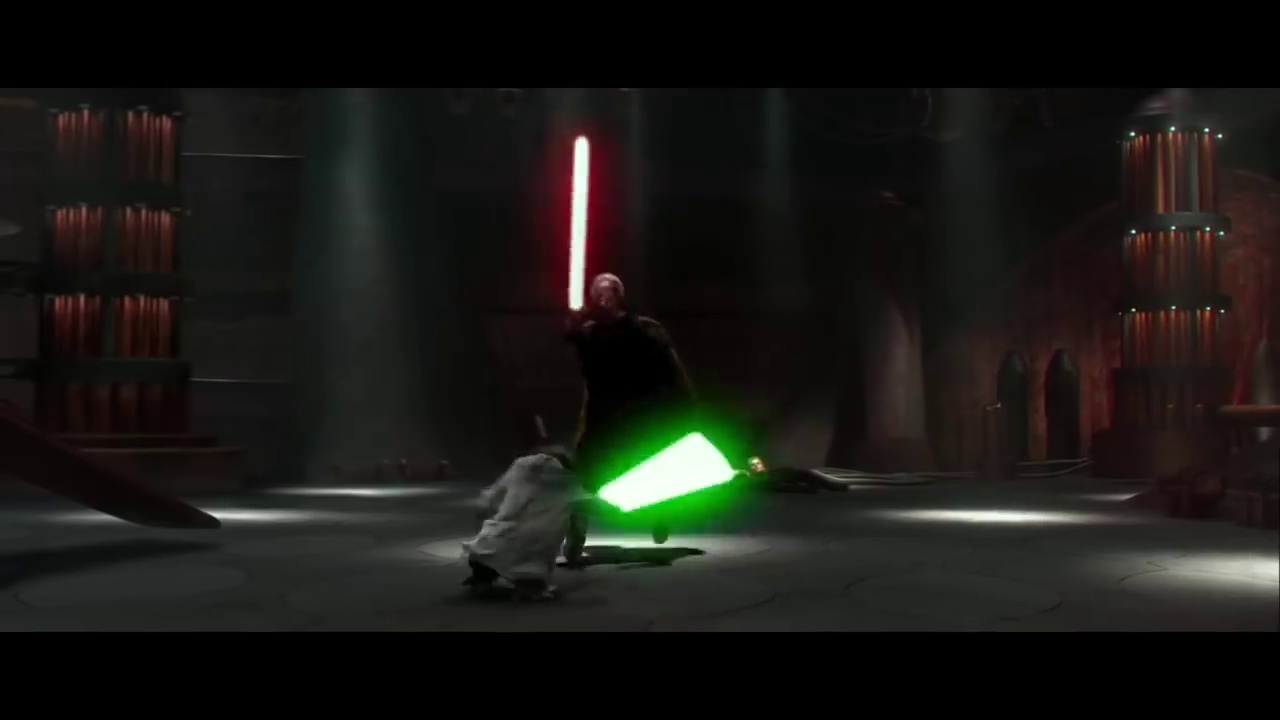lightsaber: (593, 423, 750, 518), (558, 131, 595, 318)
